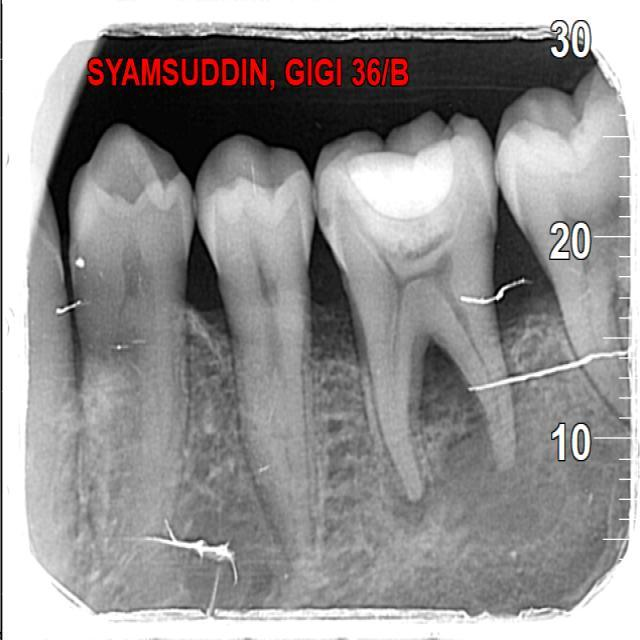individual-tooth-8tto: (308, 118, 510, 499), (67, 130, 189, 566), (196, 135, 318, 565)
